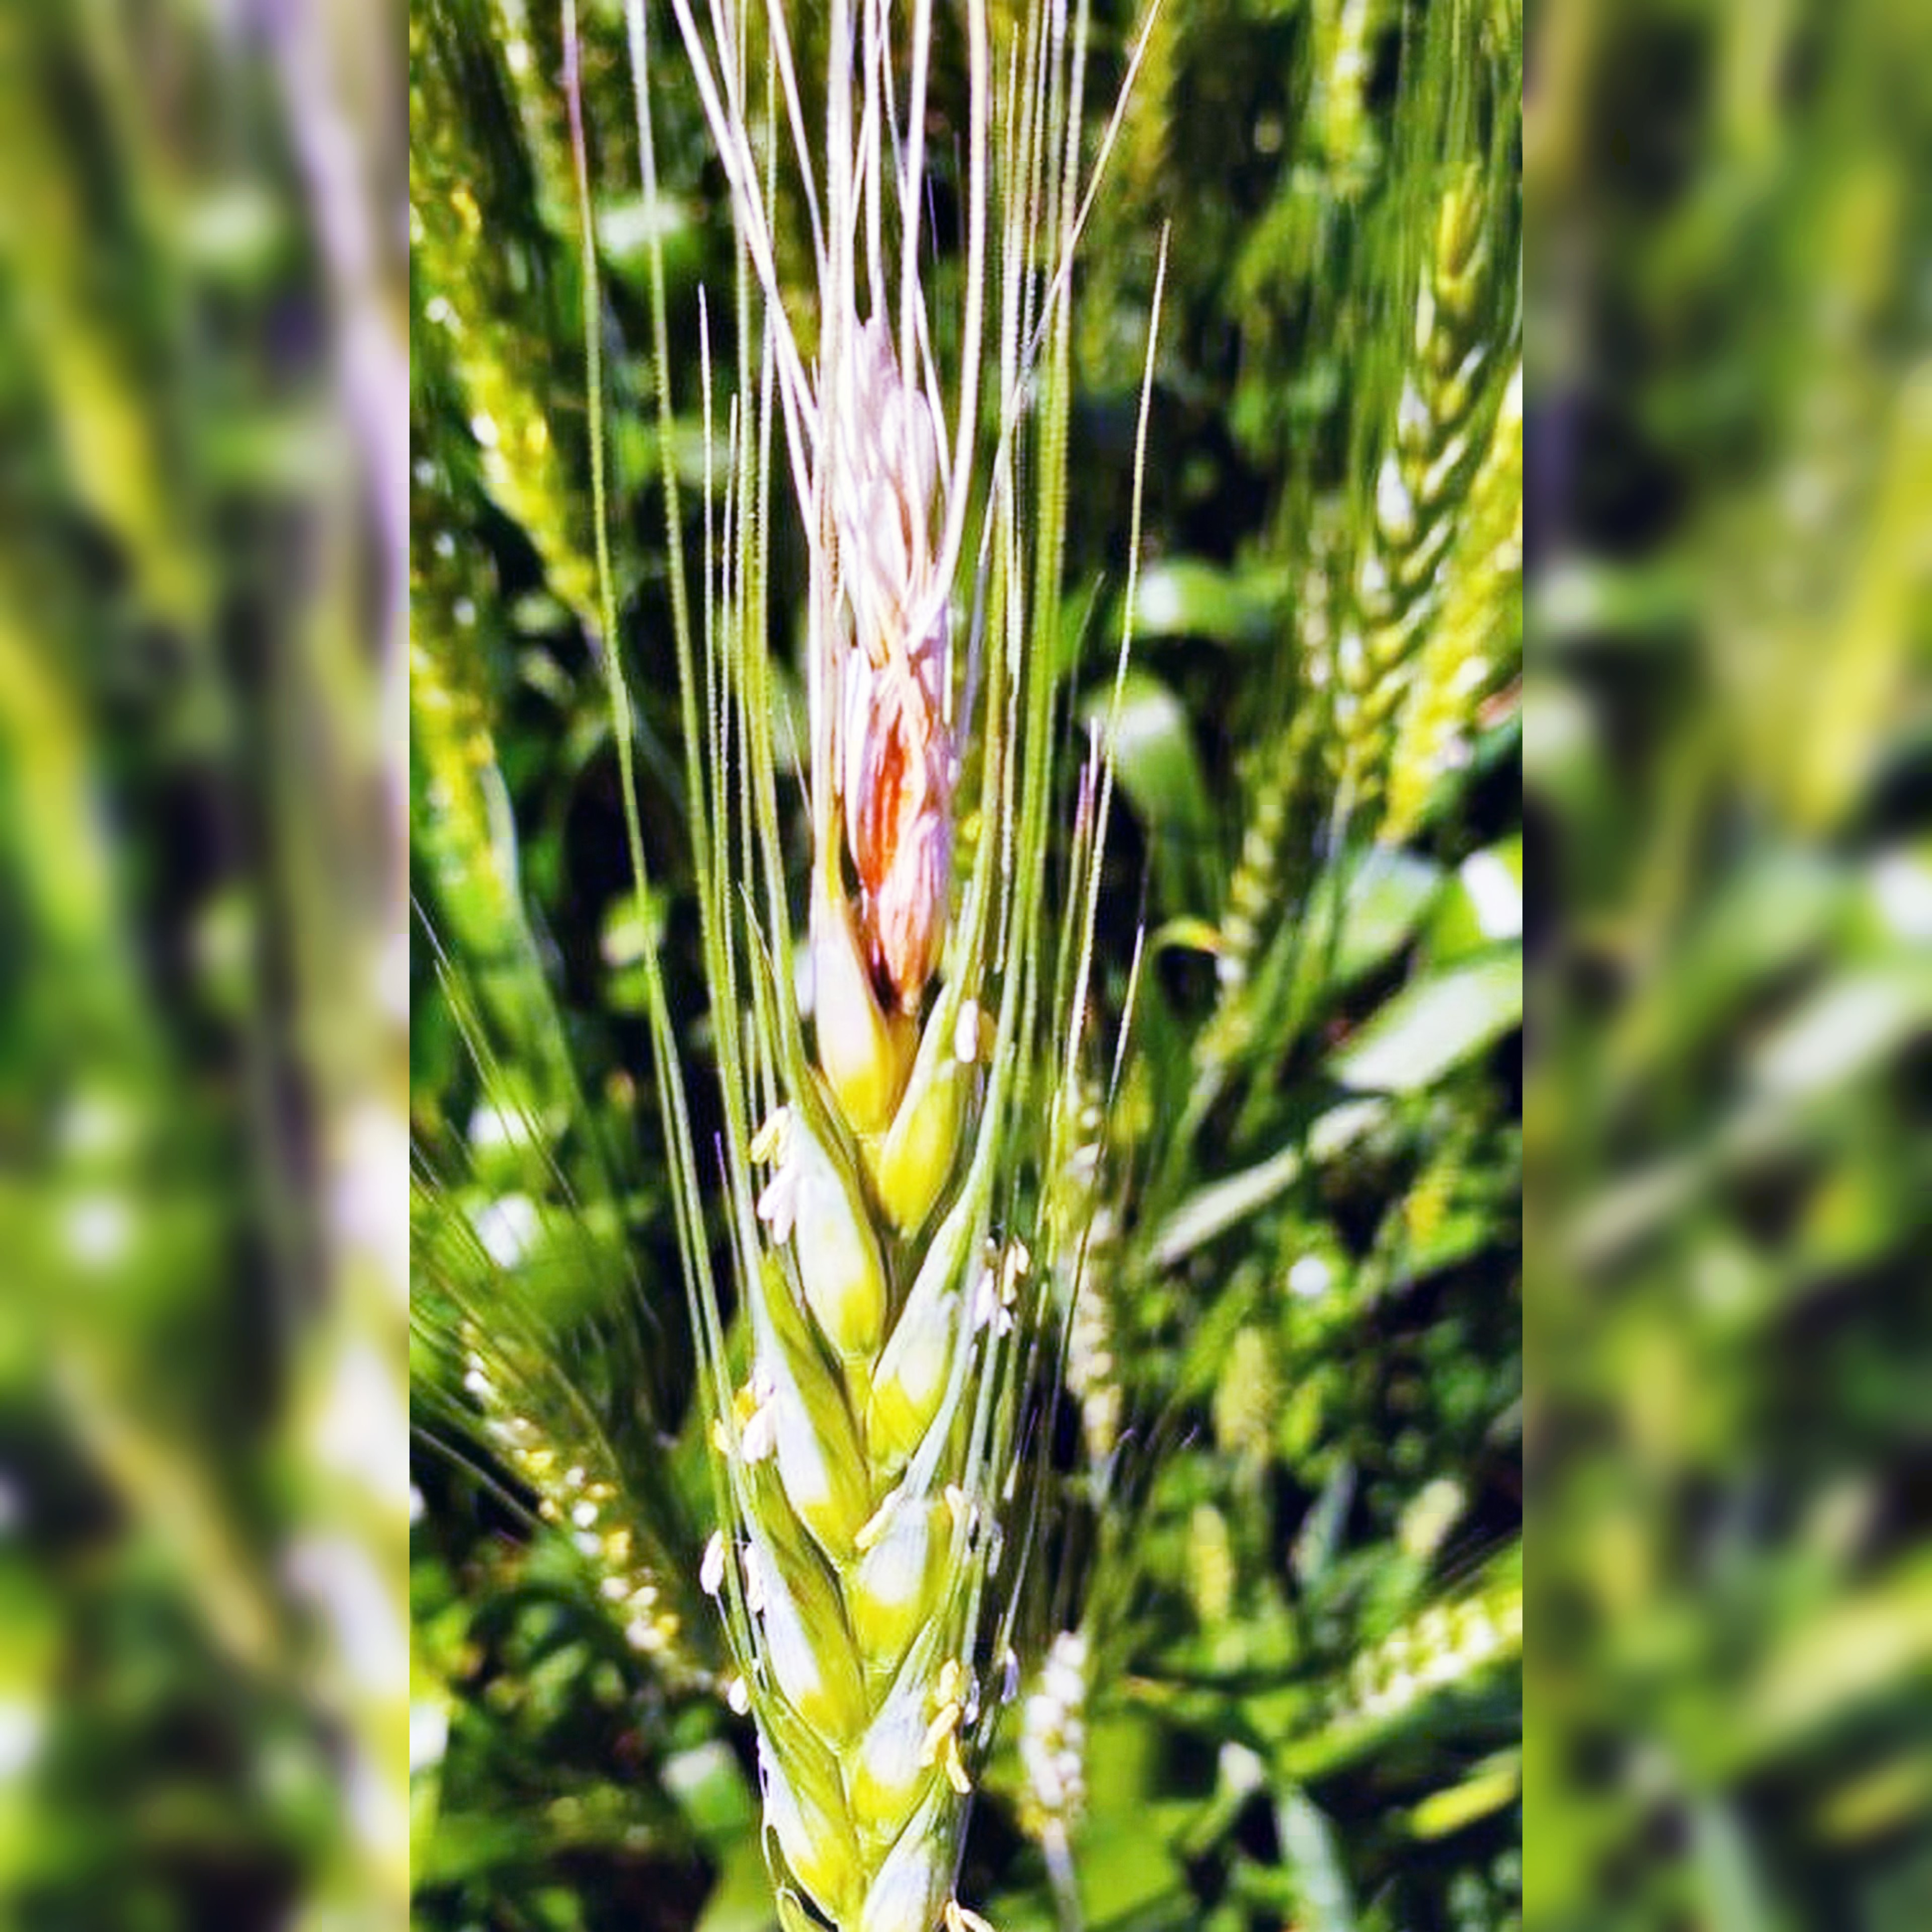Wheat scab: (672, 306, 1039, 1923)
